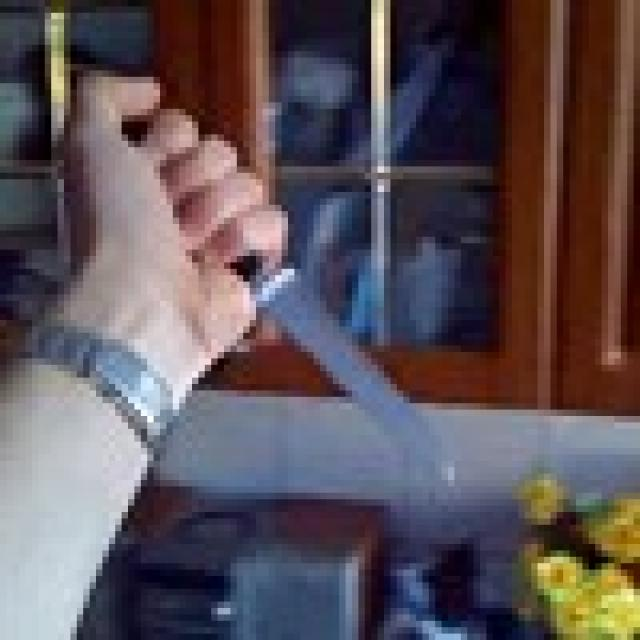Knife: (128, 109, 454, 486)
